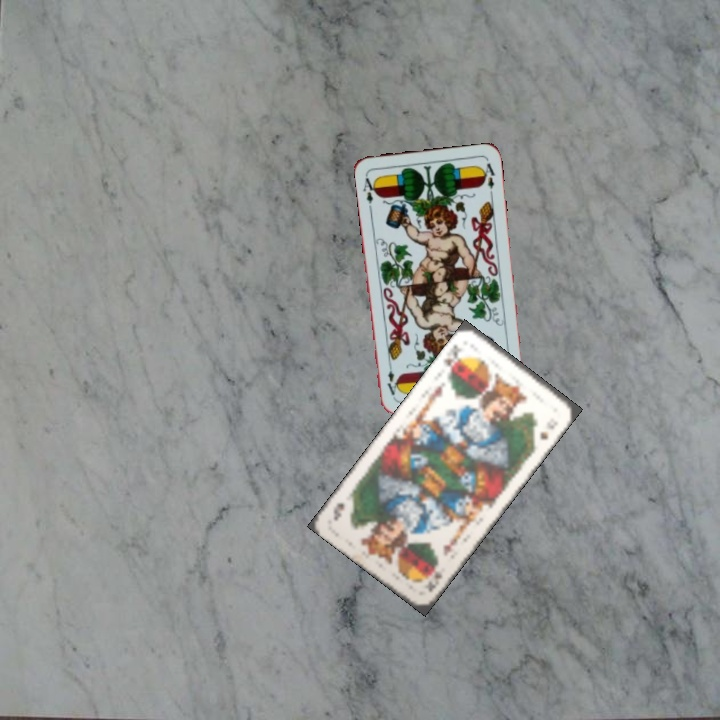EA: (359, 170, 379, 211)
SK: (439, 340, 464, 376), (421, 568, 444, 594)
